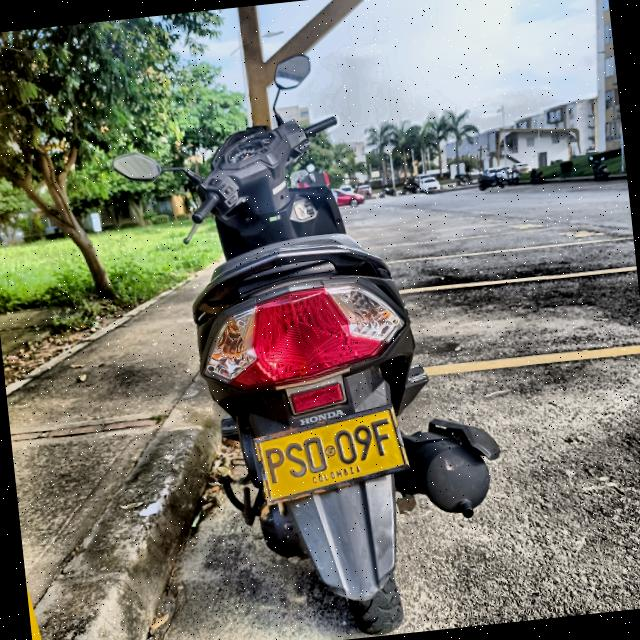0: (331, 427, 360, 467)
9: (350, 421, 378, 462)
F: (369, 416, 398, 457)
O: (301, 434, 329, 475)
P: (262, 445, 290, 485)
S: (282, 440, 310, 480)
